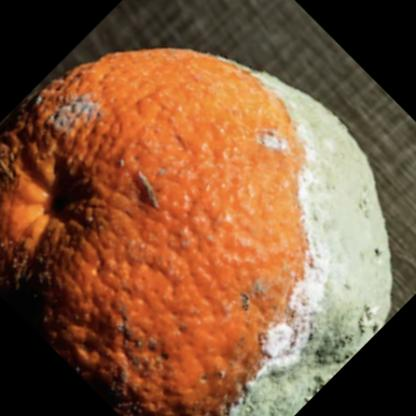rotten: (1, 49, 394, 416)
